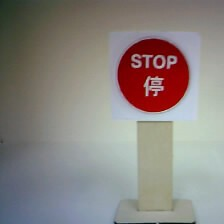stop: (106, 30, 190, 124)
